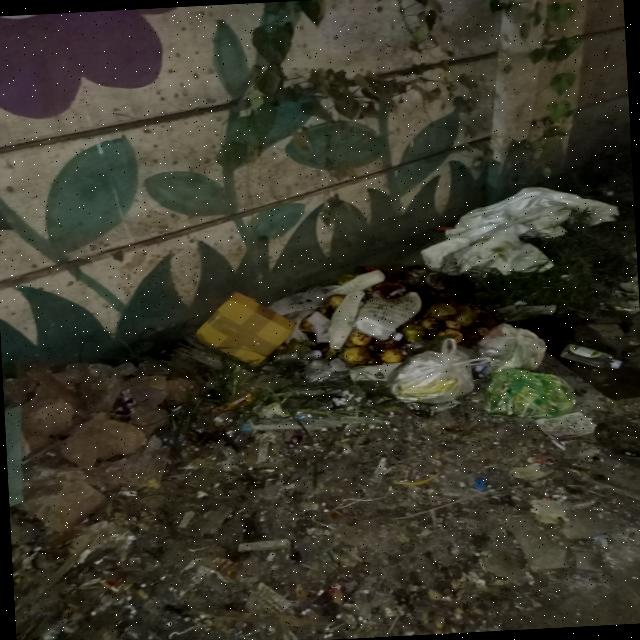garbage: (6, 299, 640, 640), (228, 188, 639, 317)
